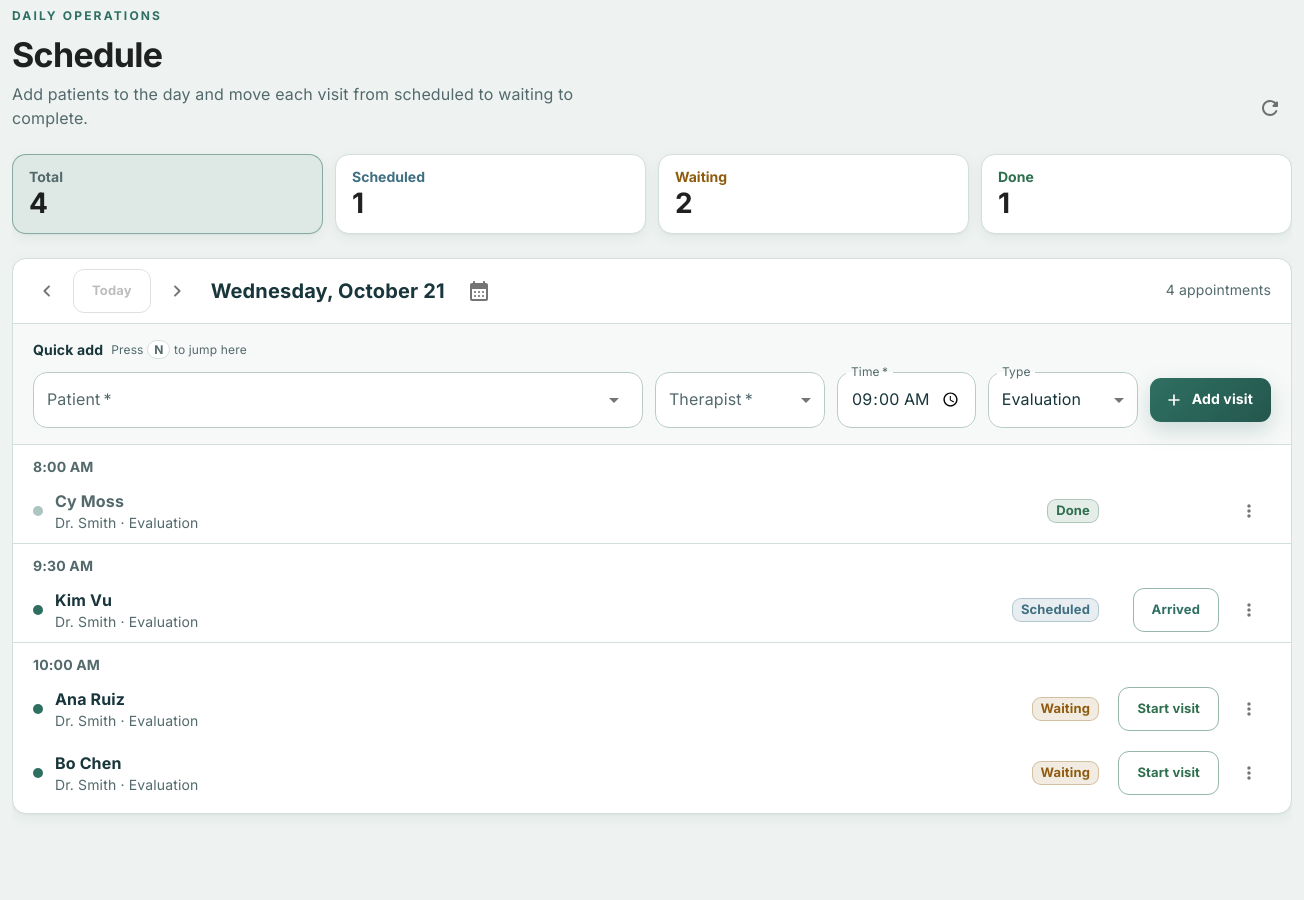
Test: SchedulePage › groups visits by time and filters them from the summary cards
The image size is (1304, 900).
Check: the text "Kim Vu" is shown, box left=55, top=590, right=112, bottom=610
Check: the text "Ana Ruiz" is shown, box left=55, top=689, right=125, bottom=709
Click the button "Waiting 2".
click(701, 176)  # box left=658, top=154, right=969, bottom=234
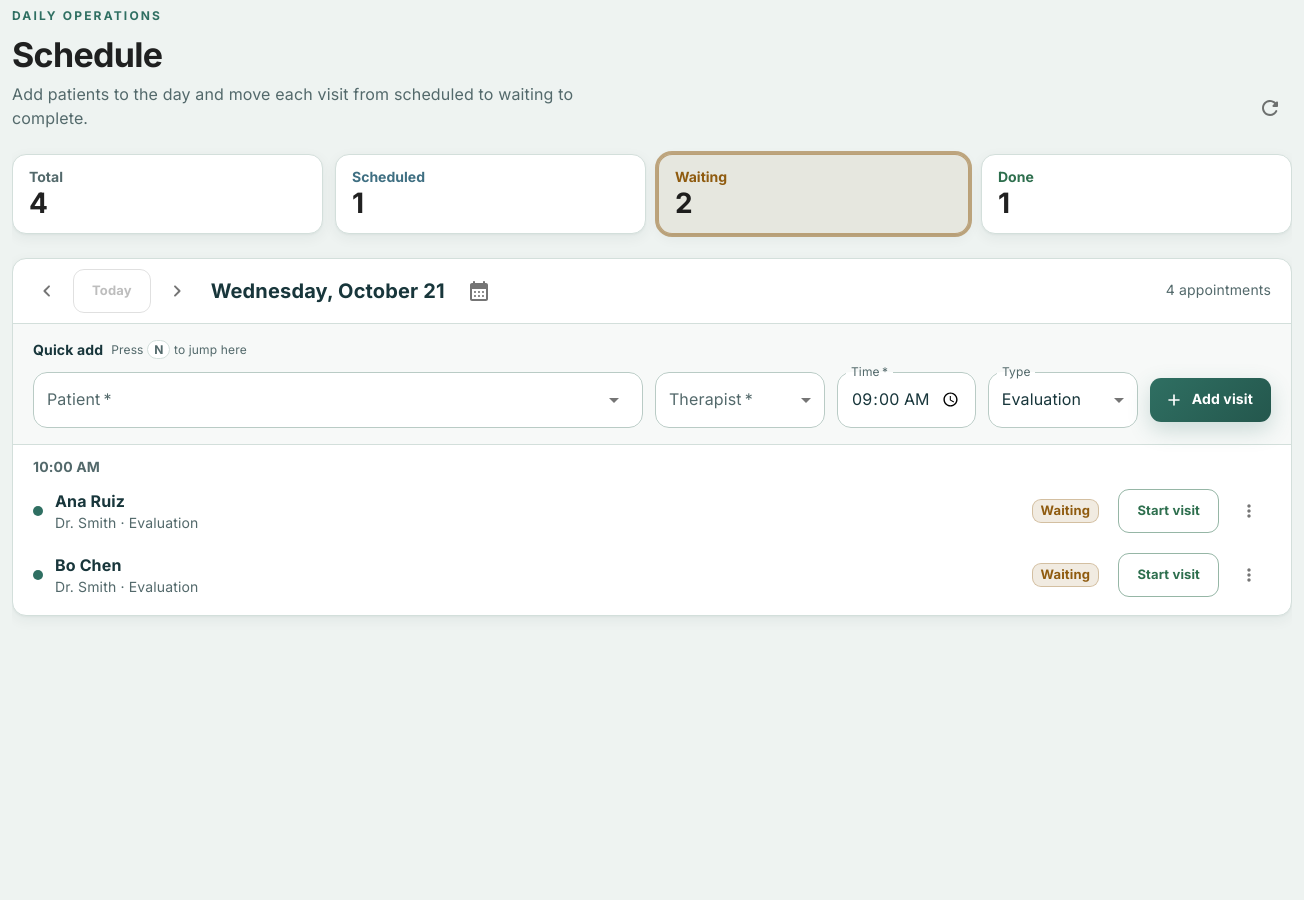
Check: the text "Ana Ruiz" is shown, box left=55, top=490, right=125, bottom=510
Check: the text "Kim Vu" is gone
// Clicking the active filter again shows everyone.
Click the button "Waiting 2".
click(701, 176)  # box left=658, top=154, right=969, bottom=234
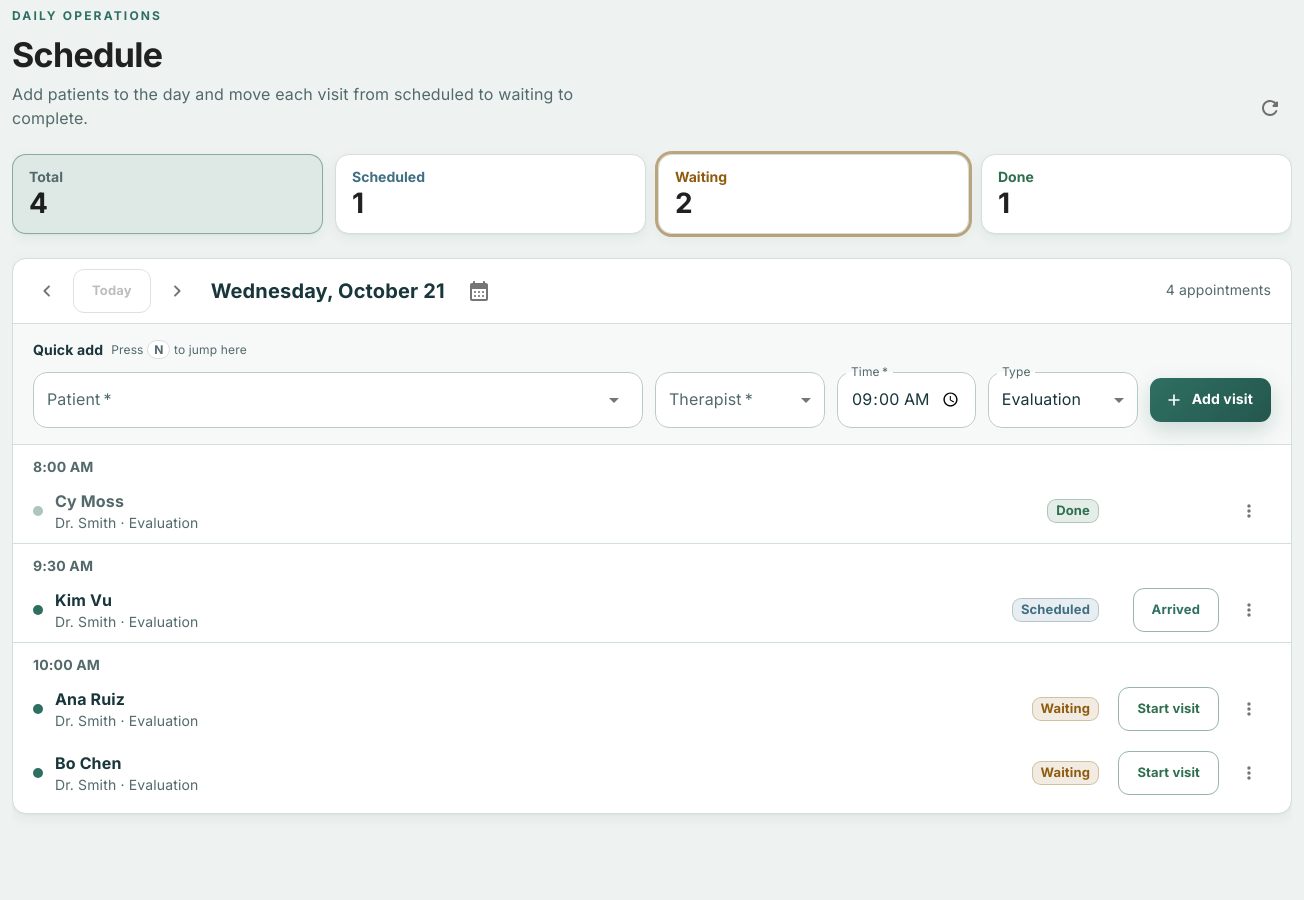
Check: the text "Kim Vu" is shown, box left=55, top=590, right=112, bottom=610
